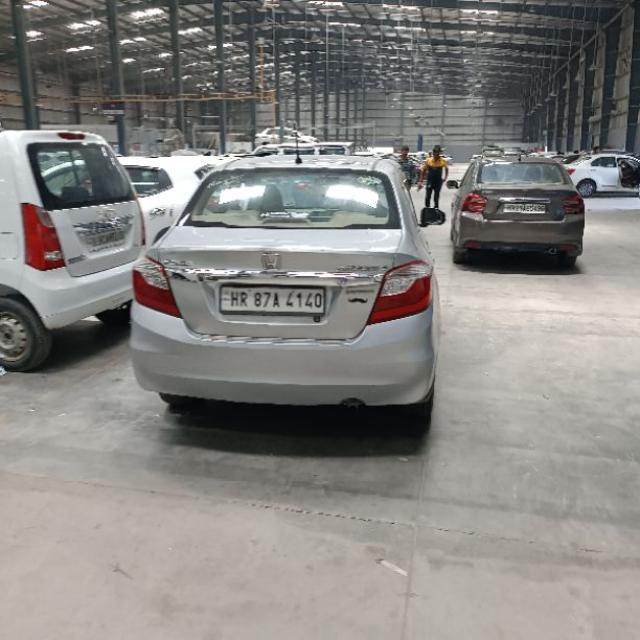license_plate: (216, 282, 328, 316)
